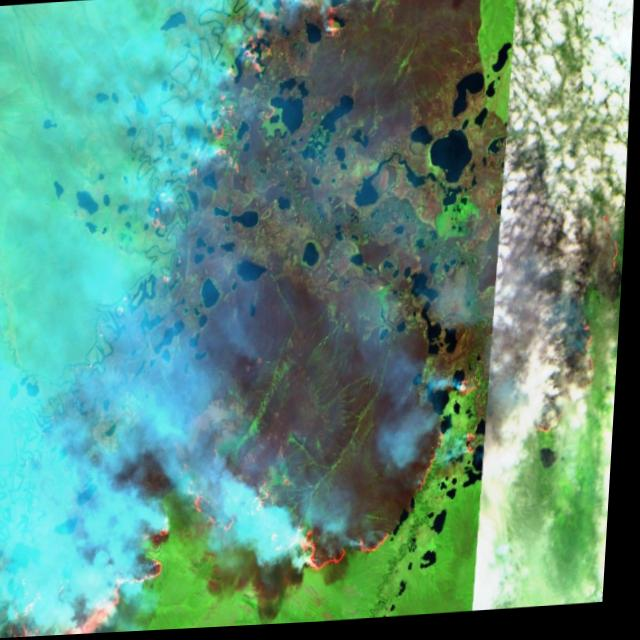fire: (3, 312, 618, 639), (141, 0, 462, 233)
